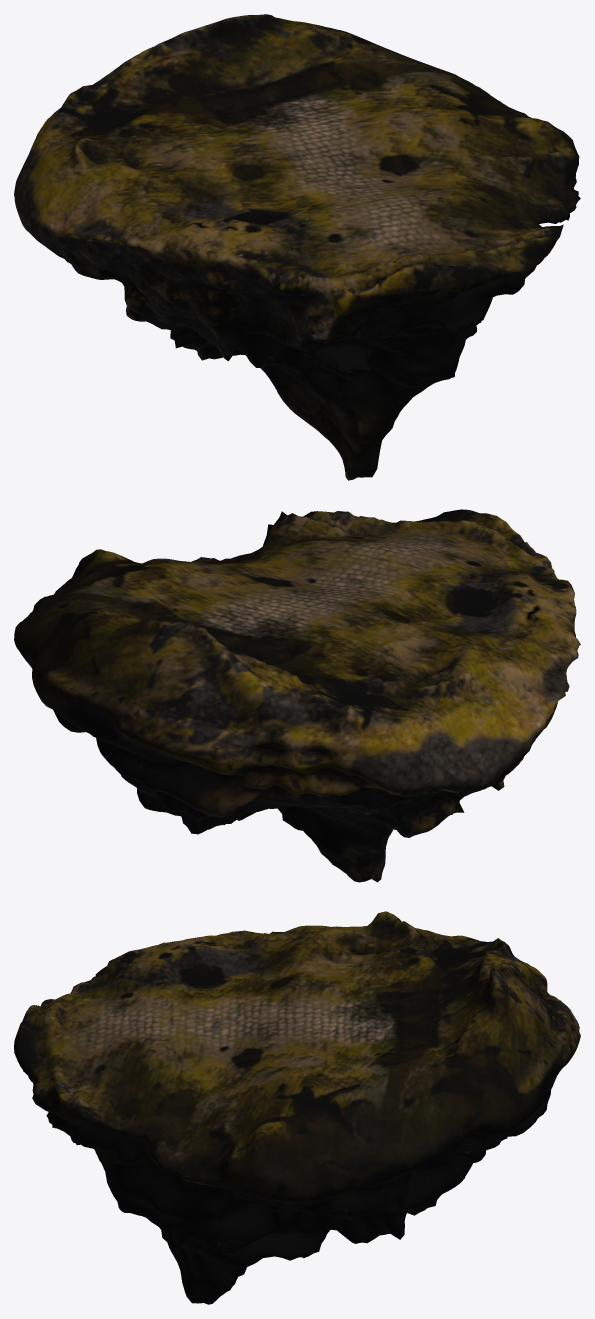
File: floating_island.glb
3 renders of one model, top to bottom at view 1: azimuth 30°, elevation 25°; view 2: azimuth 150°, elevation 25°; view 3: azimuth 270°, elevation 25°, orthographic. The views are drawn at different scales.
Visible parts, largest first — view 1: Island; view 2: Island; view 3: Island.
Part boxes in pixels (x1,y1,x2,y2): Island: (14,14,580,480); Island: (14,509,580,882); Island: (14,911,580,1304).
Size of the model in its own units: 17.2 by 11.89 by 18.01.
Materials: 1 (1 with a texture image).
